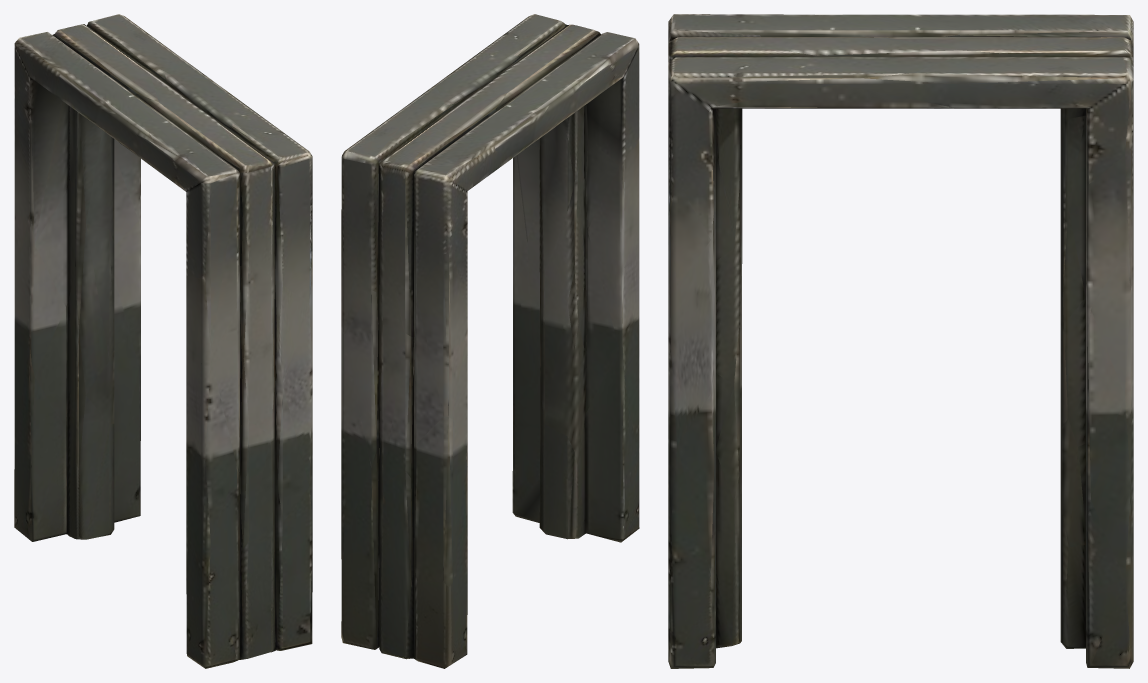
File: tripo_convert_09c07f57-e0a5-4af1-94ea-eec210fc7fca.fbx
3 renders of one model, left to right at view 1: azimuth 30°, elevation 25°; view 2: azimuth 150°, elevation 25°; view 3: azimuth 270°, elevation 25°, orthographic. The views are drawn at different scales.
Visible parts, largest first — view 1: tripo_node_09c07f57; view 2: tripo_node_09c07f57; view 3: tripo_node_09c07f57.
Part boxes in pixels (x1,y1,x2,y2): tripo_node_09c07f57: (14, 14, 312, 668); tripo_node_09c07f57: (341, 14, 639, 668); tripo_node_09c07f57: (668, 14, 1133, 668).
Bounding box in the file's own units: 0.2351 × 0.9999 × 0.7077.
1 material, 1 textured.
